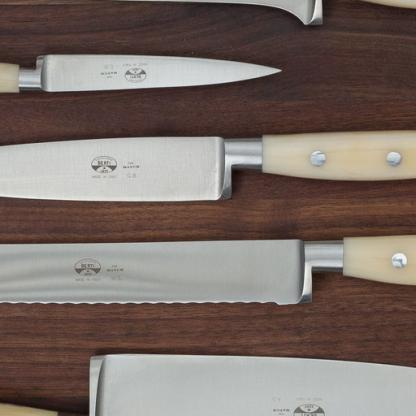knife: (0, 230, 415, 314), (0, 132, 415, 208), (0, 349, 415, 415), (0, 39, 281, 103), (0, 0, 416, 33)
